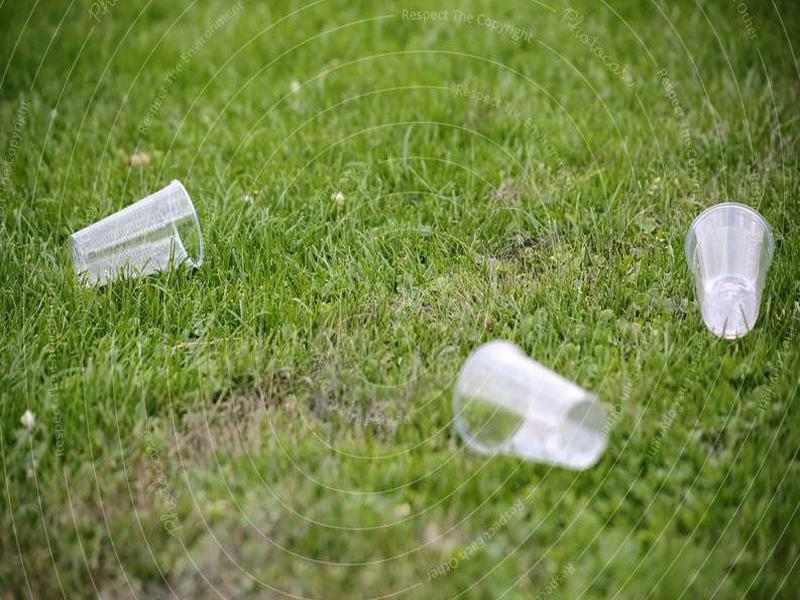cup: (442, 338, 614, 474), (64, 175, 210, 296), (672, 198, 783, 344)
